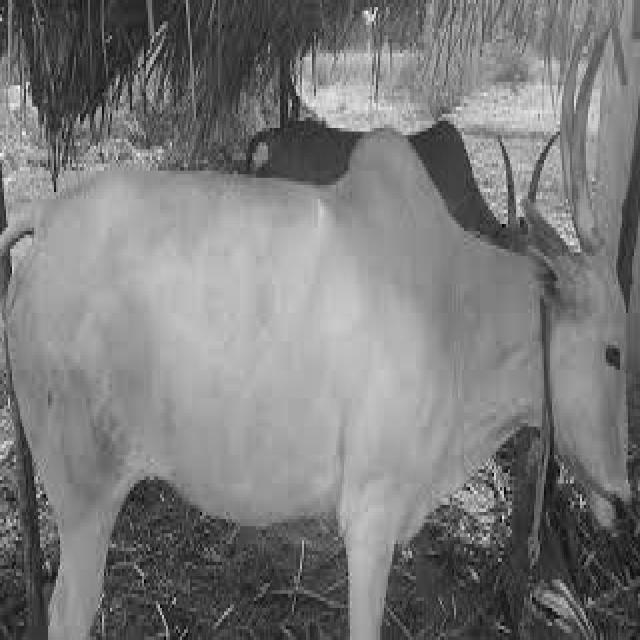Cow: (2, 114, 630, 636)
